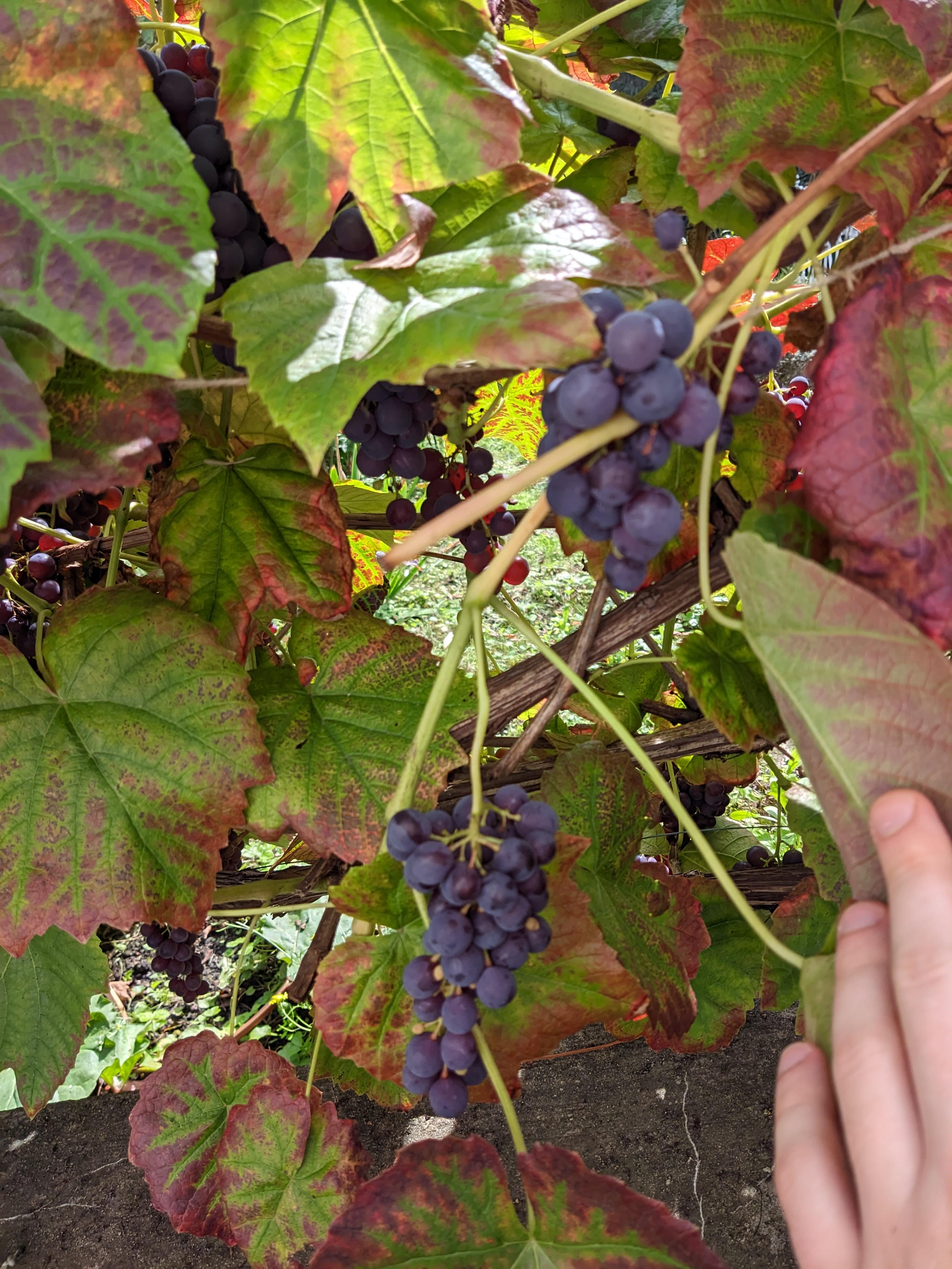Grape Ripe: (536, 264, 781, 595), (381, 761, 553, 1119), (345, 378, 533, 586), (0, 486, 122, 678), (139, 920, 211, 1006)
